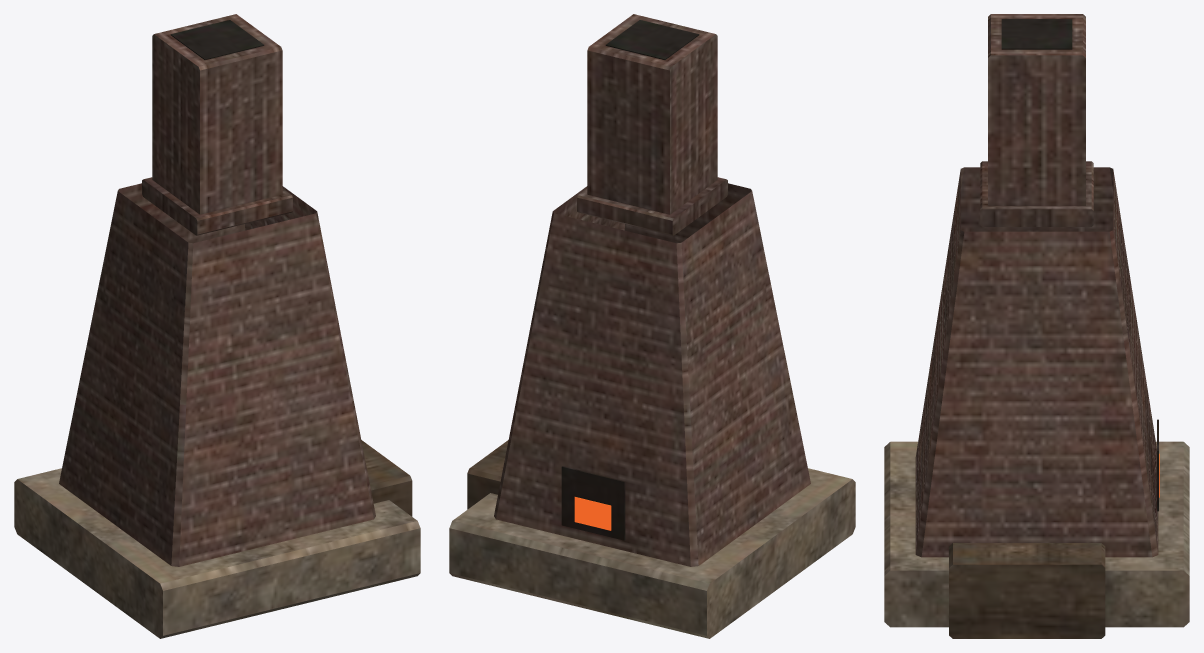
The model's file is b_furnace_far.glb.
3 views of the same model, side by side, from view 1: azimuth 30°, elevation 25°; view 2: azimuth 150°, elevation 25°; view 3: azimuth 270°, elevation 25° (orthographic). The views are drawn at different scales.
Visible parts, largest first — view 1: b_furnace_far; view 2: b_furnace_far; view 3: b_furnace_far.
Boxes of the visible parts, x1,y1,x2,y2 form: b_furnace_far: [14, 14, 420, 638]; b_furnace_far: [449, 14, 855, 638]; b_furnace_far: [884, 14, 1189, 638].
Size of the model in its own units: 1.7 by 2.99 by 1.56.
2 materials, 1 textured.
